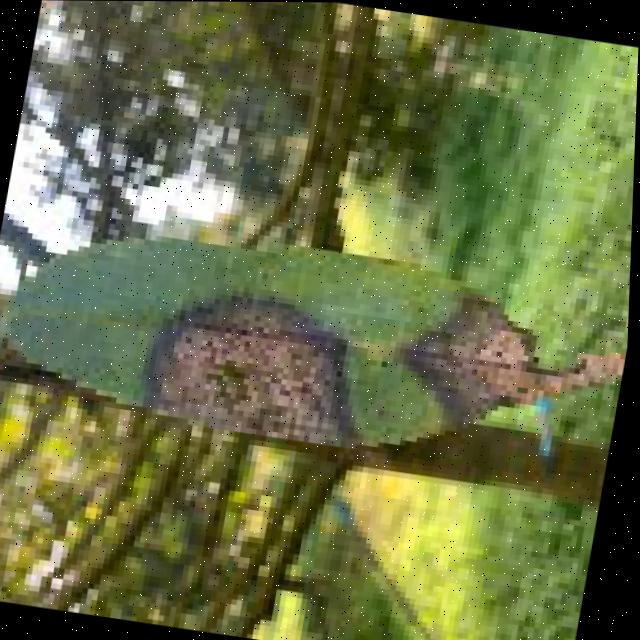Phytophthora: (101, 268, 386, 497), (369, 269, 632, 485)
